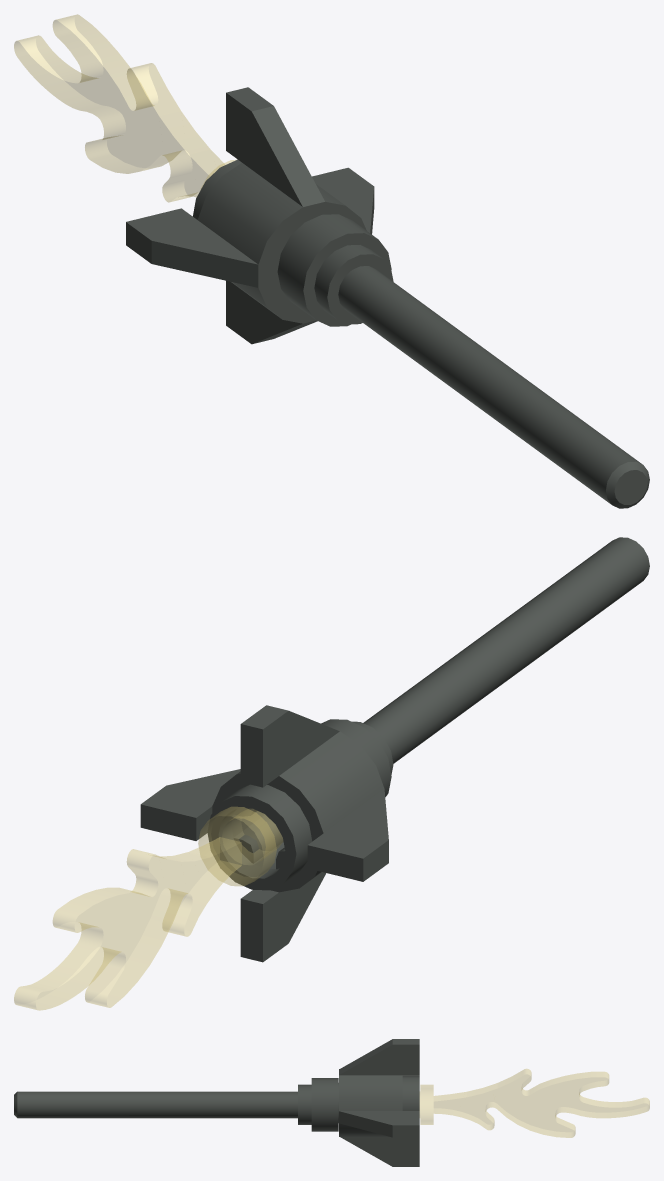
File: missile2.glb
3 views of the same model, one above another, from view 1: azimuth 30°, elevation 25°; view 2: azimuth 150°, elevation 25°; view 3: azimuth 270°, elevation 25° (orthographic). The views are drawn at different scales.
Visible parts, largest first — view 1: 3957b.dat, 4588.dat, 28618.dat; view 2: 4588.dat, 28618.dat, 3957b.dat; view 3: 3957b.dat, 4588.dat, 28618.dat.
Boxes of the visible parts, left/top/right/bottom form: 3957b.dat: left=277, top=214, right=649, bottom=508; 4588.dat: left=126, top=87, right=374, bottom=344; 28618.dat: left=14, top=14, right=235, bottom=202; 4588.dat: left=140, top=705, right=388, bottom=962; 28618.dat: left=14, top=807, right=283, bottom=1010; 3957b.dat: left=321, top=537, right=649, bottom=796; 3957b.dat: left=14, top=1078, right=338, bottom=1131; 4588.dat: left=338, top=1039, right=419, bottom=1166; 28618.dat: left=420, top=1069, right=649, bottom=1137.
Size of the model in its own units: 0.199 by 0.199 by 0.9383.
